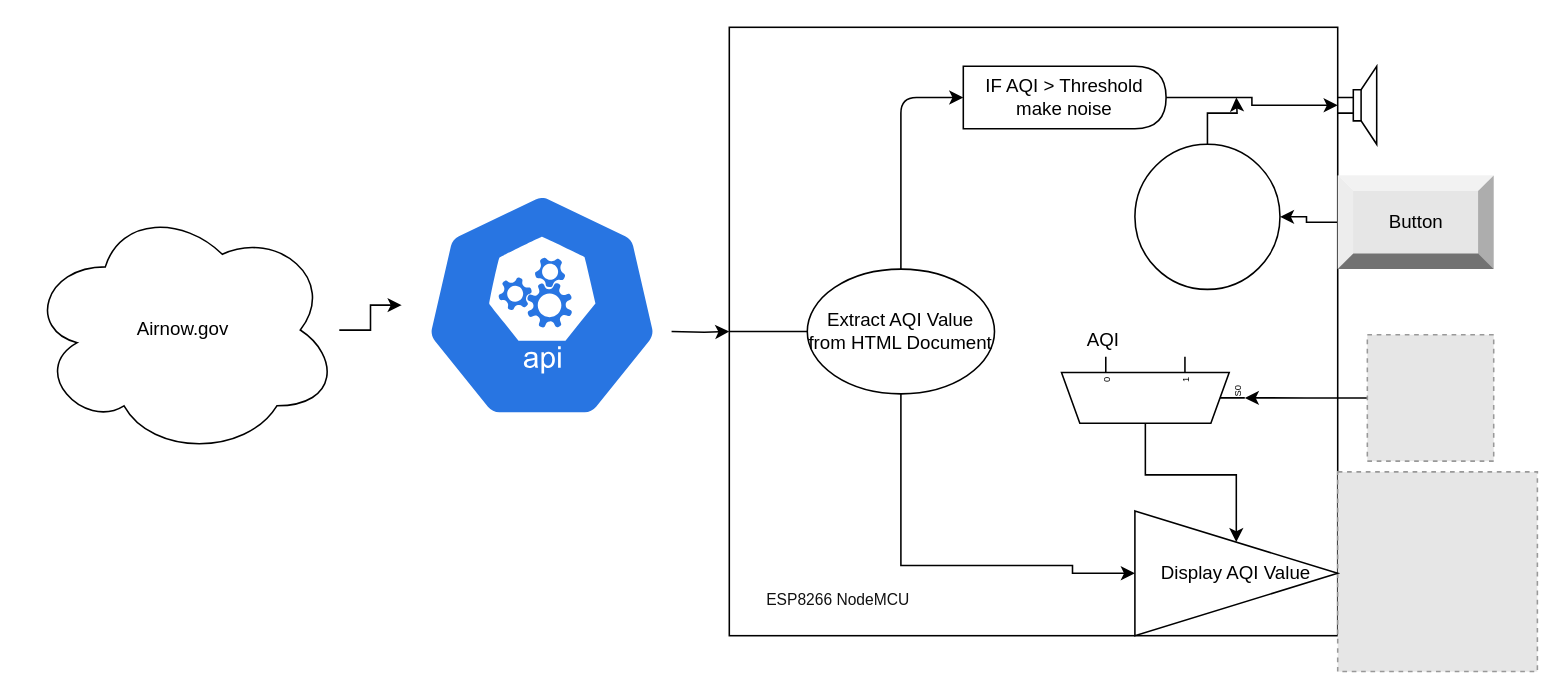
Image size: 1565x699. Some labels were removed from this diagram. Grey dashed boxes stand in for pictures. Here are the shapes that lost their labels. From the top down, the centre of each, then its label:
point (1206, 216): If Button == 1 then turn off buzzer
point (1152, 397): Temp
